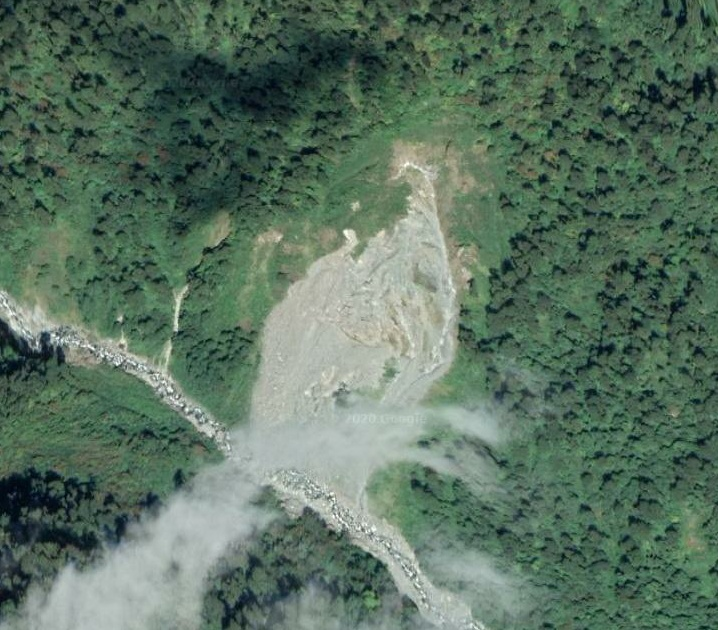slope: (242, 138, 477, 509)
